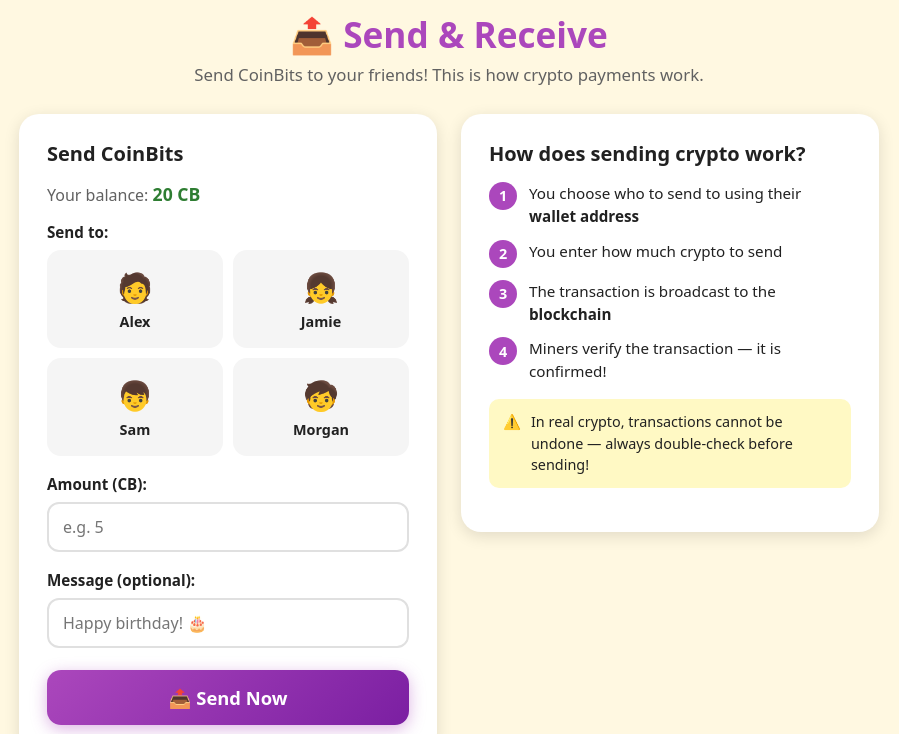
Test: Transfer page › shows error if no recipient is selected
The image size is (899, 734).
Click the button "📤 Send Now".
click(228, 698)  # box [47,670,409,725]
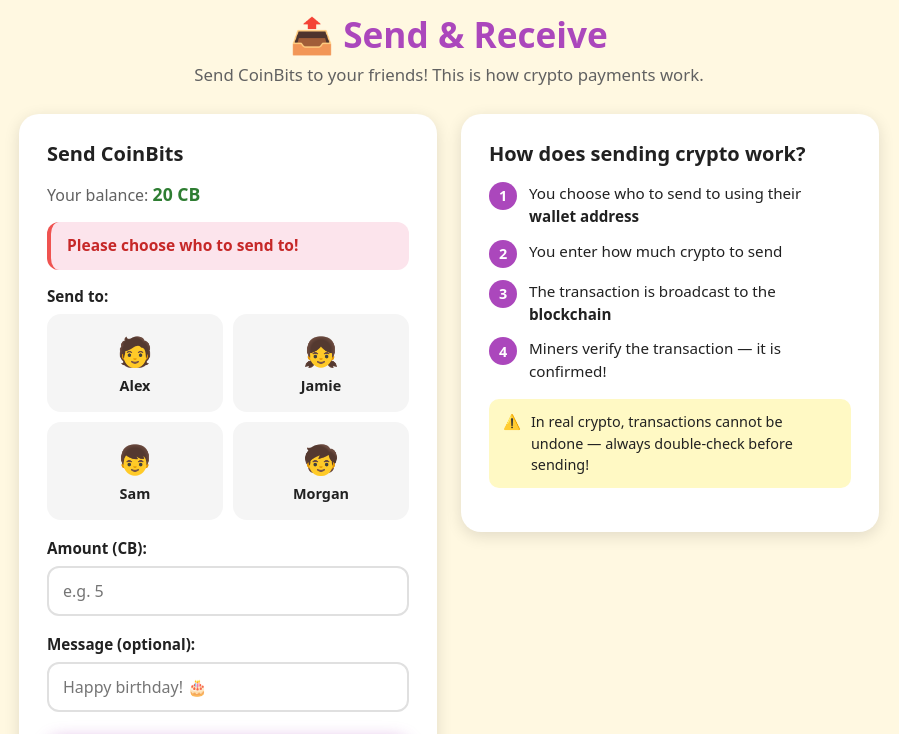
Check: the message shows "choose who to send to", box [67,234,298,256]
